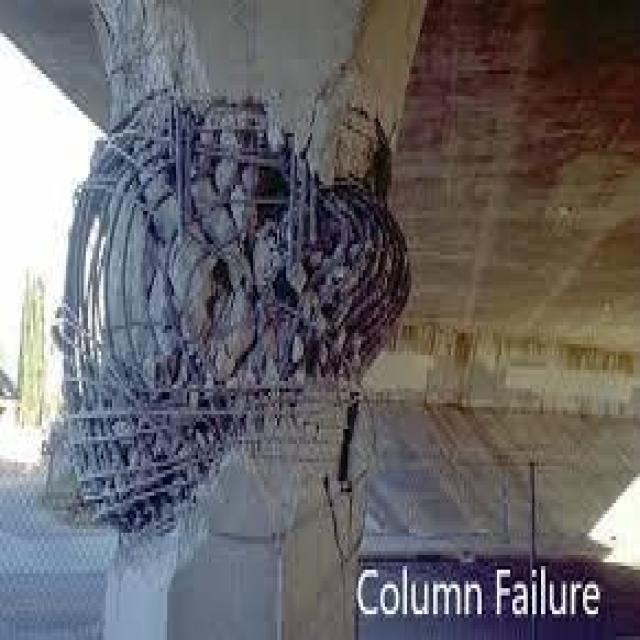Buckling_Beam: (45, 0, 448, 640)
